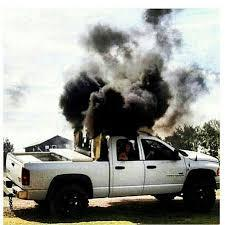smoke: (59, 6, 223, 142)
